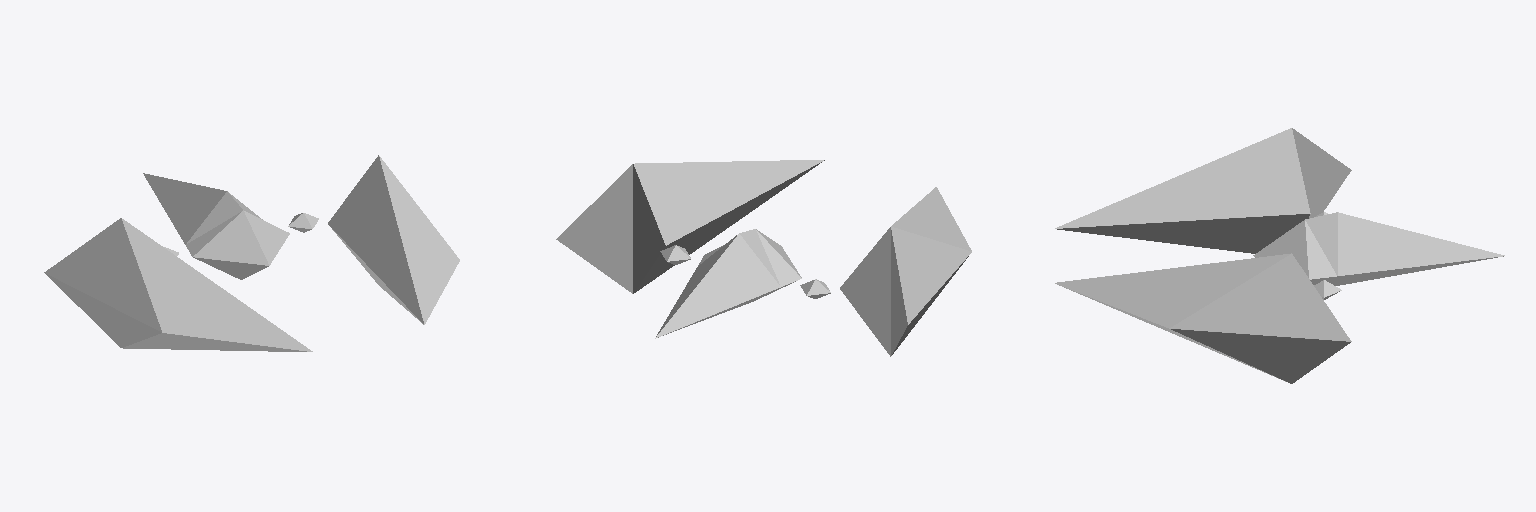
The model's file is player_ship_01.obj.
3 views of the same model, side by side, from view 1: azimuth 30°, elevation 25°; view 2: azimuth 150°, elevation 25°; view 3: azimuth 270°, elevation 25° (orthographic).
Visible parts, largest first — view 1: Cube.002; view 2: Cube.002; view 3: Cube.002.
Part boxes in pixels (x1,y1,x2,y2): Cube.002: (44,155,459,351); Cube.002: (556,160,971,356); Cube.002: (1055,128,1504,383).
Size of the model in its own units: 4.66 by 1.66 by 5.2.